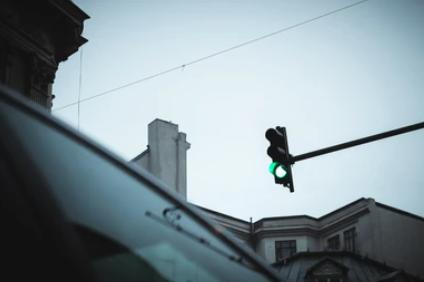green_light: (266, 127, 292, 184)
